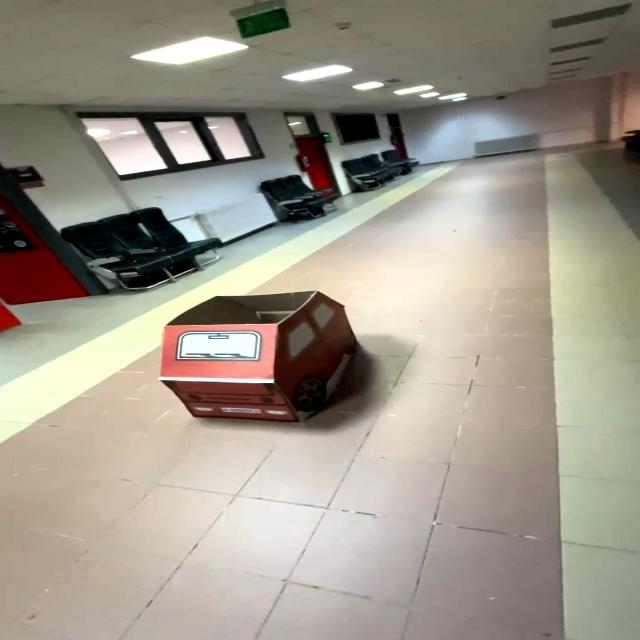red_car: (160, 274, 391, 436)
